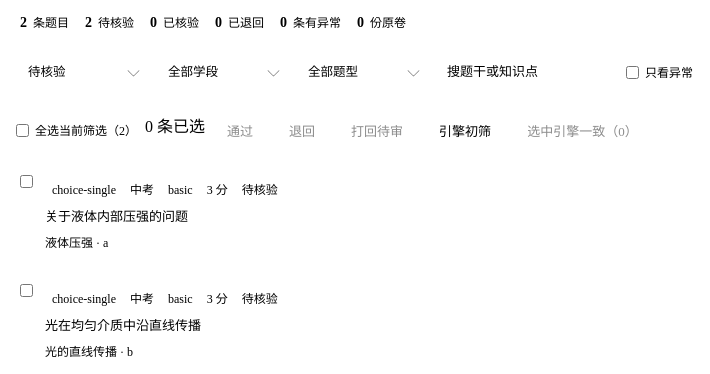
Test: AdminContentTab › searches the knowledge tag as well as the stem
The width and height of the screenshot is (710, 374).
Check: the text "关于液体内部压强的问题" is shown, box left=45, top=209, right=188, bottom=224
Type "光的直线传播" into the field with placeholder "搜题干或知识点".
click(527, 72); type("光的直线传播")  # box left=436, top=55, right=618, bottom=89
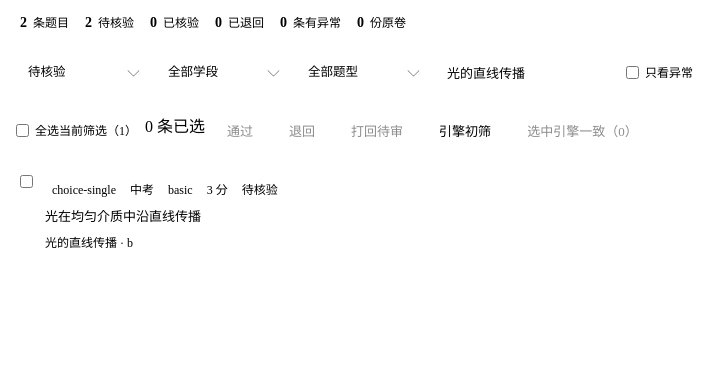
Check: the text "光在均匀介质中沿直线传播" is shown, box left=45, top=209, right=201, bottom=224
Check: the text "关于液体内部压强的问题" is gone
